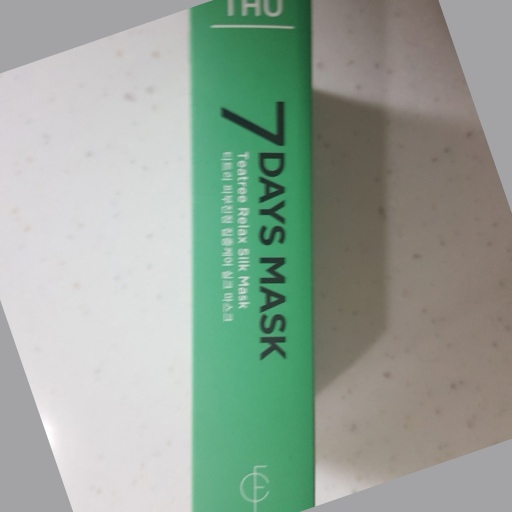Paper_0: (188, 1, 331, 512)
